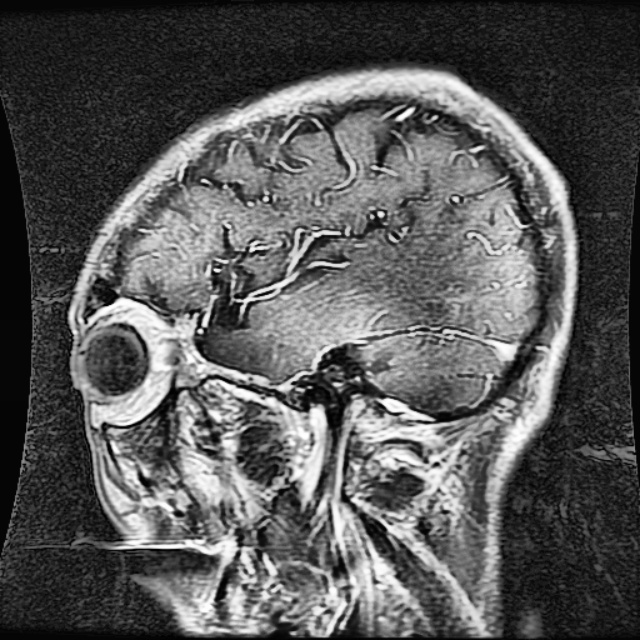Pituitary: (213, 249, 255, 329)
